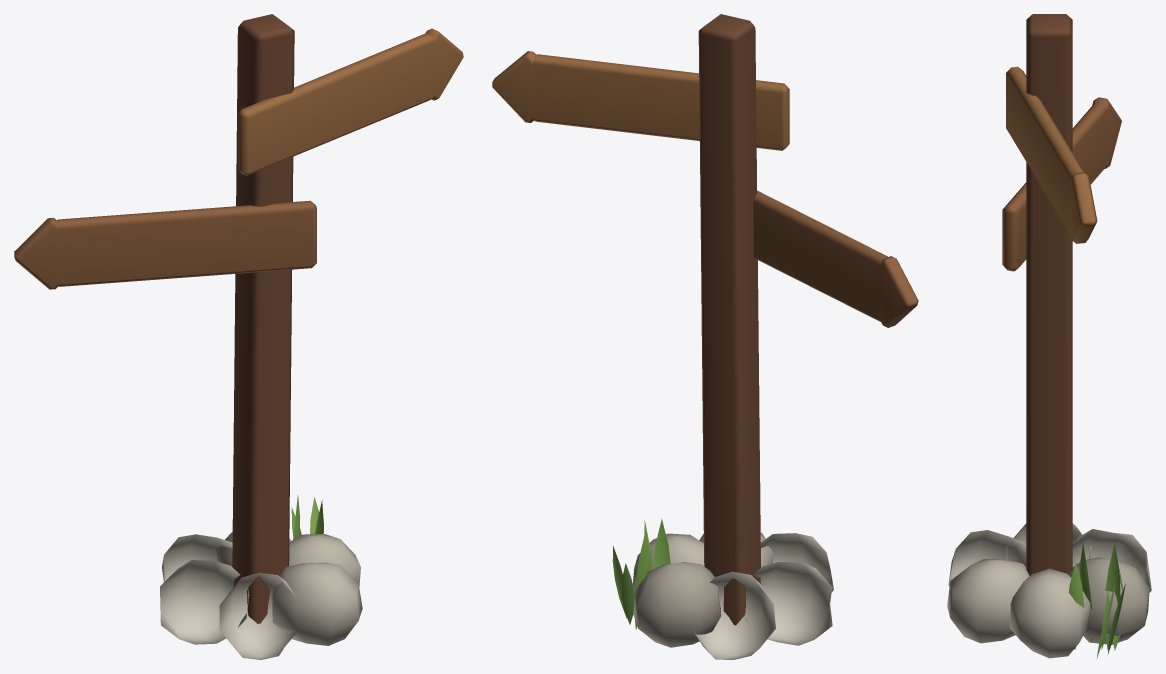
The model's file is signpost.glb.
3 views of the same model, side by side, from view 1: azimuth 30°, elevation 25°; view 2: azimuth 150°, elevation 25°; view 3: azimuth 270°, elevation 25° (orthographic).
Parts seen in each view (by area): view 1: Signpost; view 2: Signpost; view 3: Signpost.
Part boxes in pixels (<box>): Signpost: <box>14,14,463,659</box>; Signpost: <box>492,14,918,659</box>; Signpost: <box>947,14,1151,658</box>.
Bounding box in the file's own units: 1.41 × 1.87 × 0.5706.
